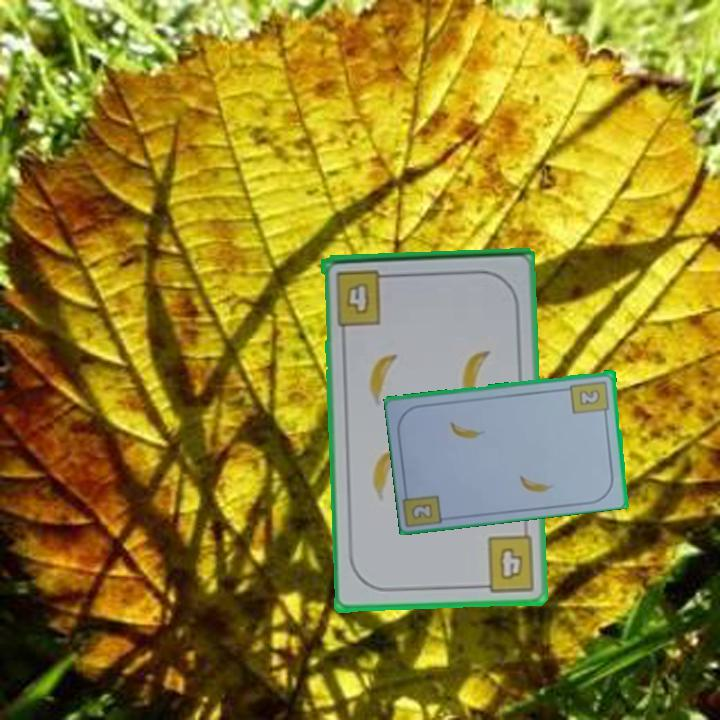2b: (567, 377, 612, 419), (410, 502, 433, 520)
4b: (474, 532, 538, 595), (332, 266, 395, 328)
